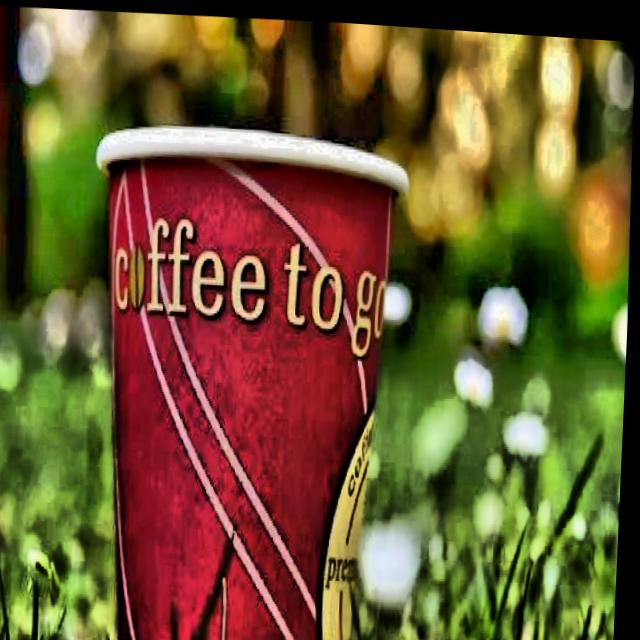Cup: (78, 115, 421, 640)
